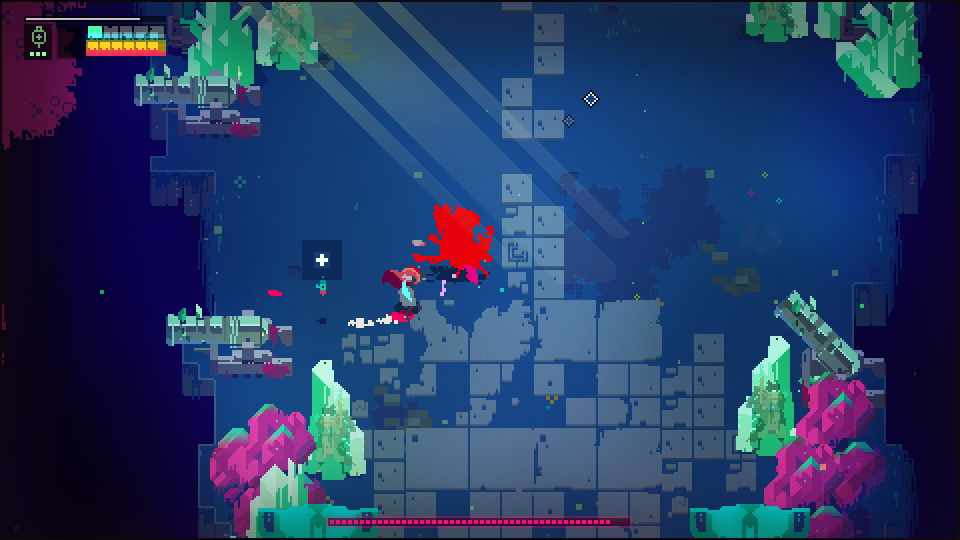hanged_man: (410, 200, 496, 280)
player: (386, 265, 423, 312)
